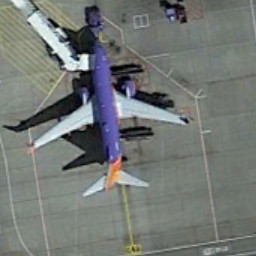Airplane: (19, 29, 197, 204)
